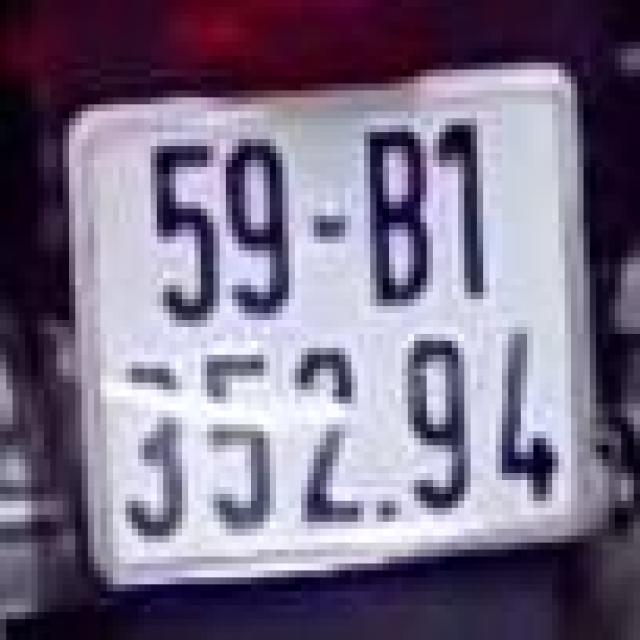1: (426, 108, 514, 316)
2: (286, 331, 367, 539)
3: (116, 334, 198, 543)
4: (489, 313, 565, 522)
5: (141, 136, 223, 324), (195, 338, 276, 526)
9: (223, 128, 298, 324), (398, 331, 474, 518)
B: (352, 122, 439, 310)
